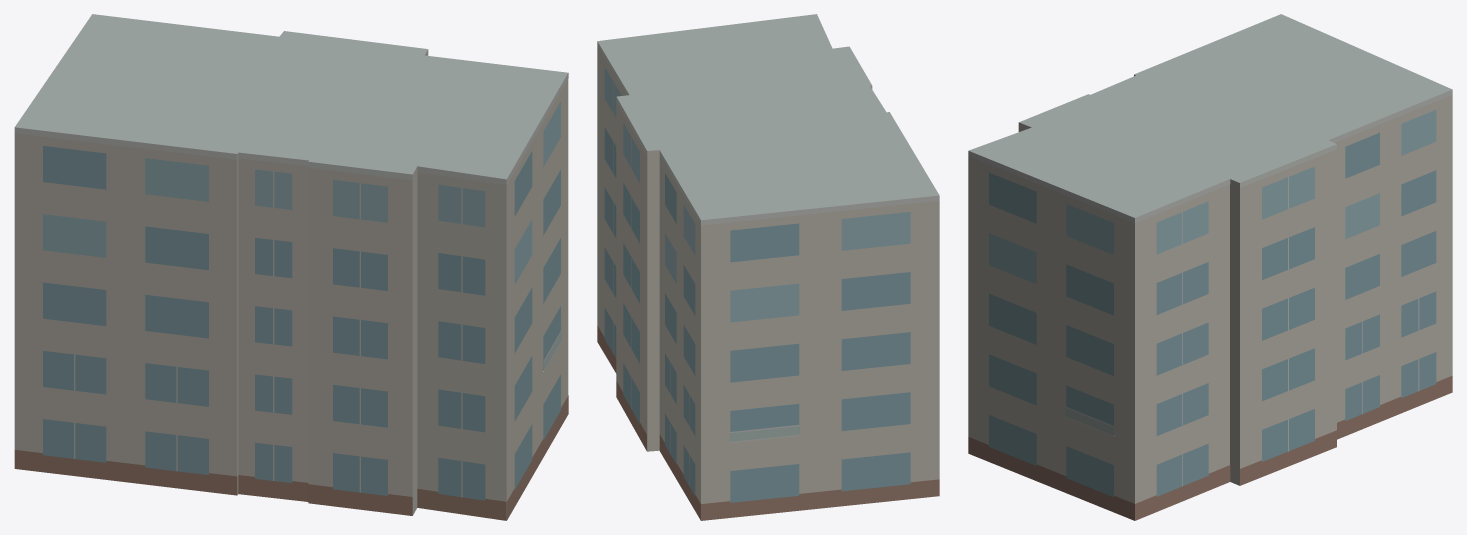
Rendered from survey-upis-32732753.glb.
3 views of the same model, side by side, from view 1: azimuth 30°, elevation 25°; view 2: azimuth 150°, elevation 25°; view 3: azimuth 270°, elevation 25° (orthographic). The views are drawn at different scales.
Parts seen in each view (by area): view 1: survey-upis-32732753.tmp; view 2: survey-upis-32732753.tmp; view 3: survey-upis-32732753.tmp.
Part boxes in pixels (x1,y1,x2,y2): survey-upis-32732753.tmp: [14, 14, 568, 520]; survey-upis-32732753.tmp: [597, 14, 939, 520]; survey-upis-32732753.tmp: [968, 14, 1452, 520].
Size of the model in its own units: 20.52 by 14.2 by 20.58.
